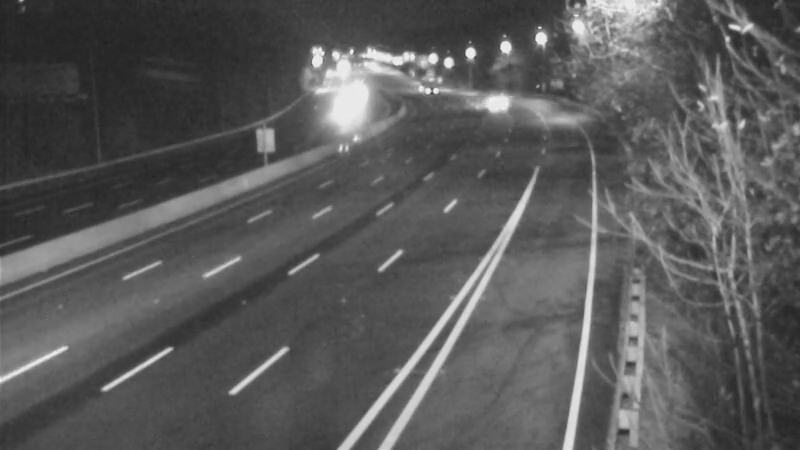vehicle: (397, 60, 447, 110), (464, 73, 514, 123), (319, 80, 369, 130)
